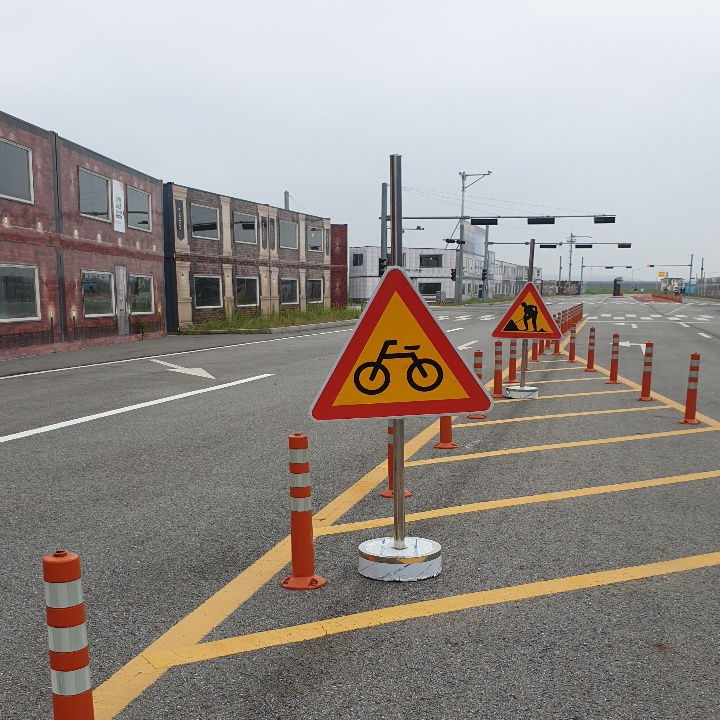bicycle: (310, 269, 495, 417)
const: (502, 292, 551, 331)
